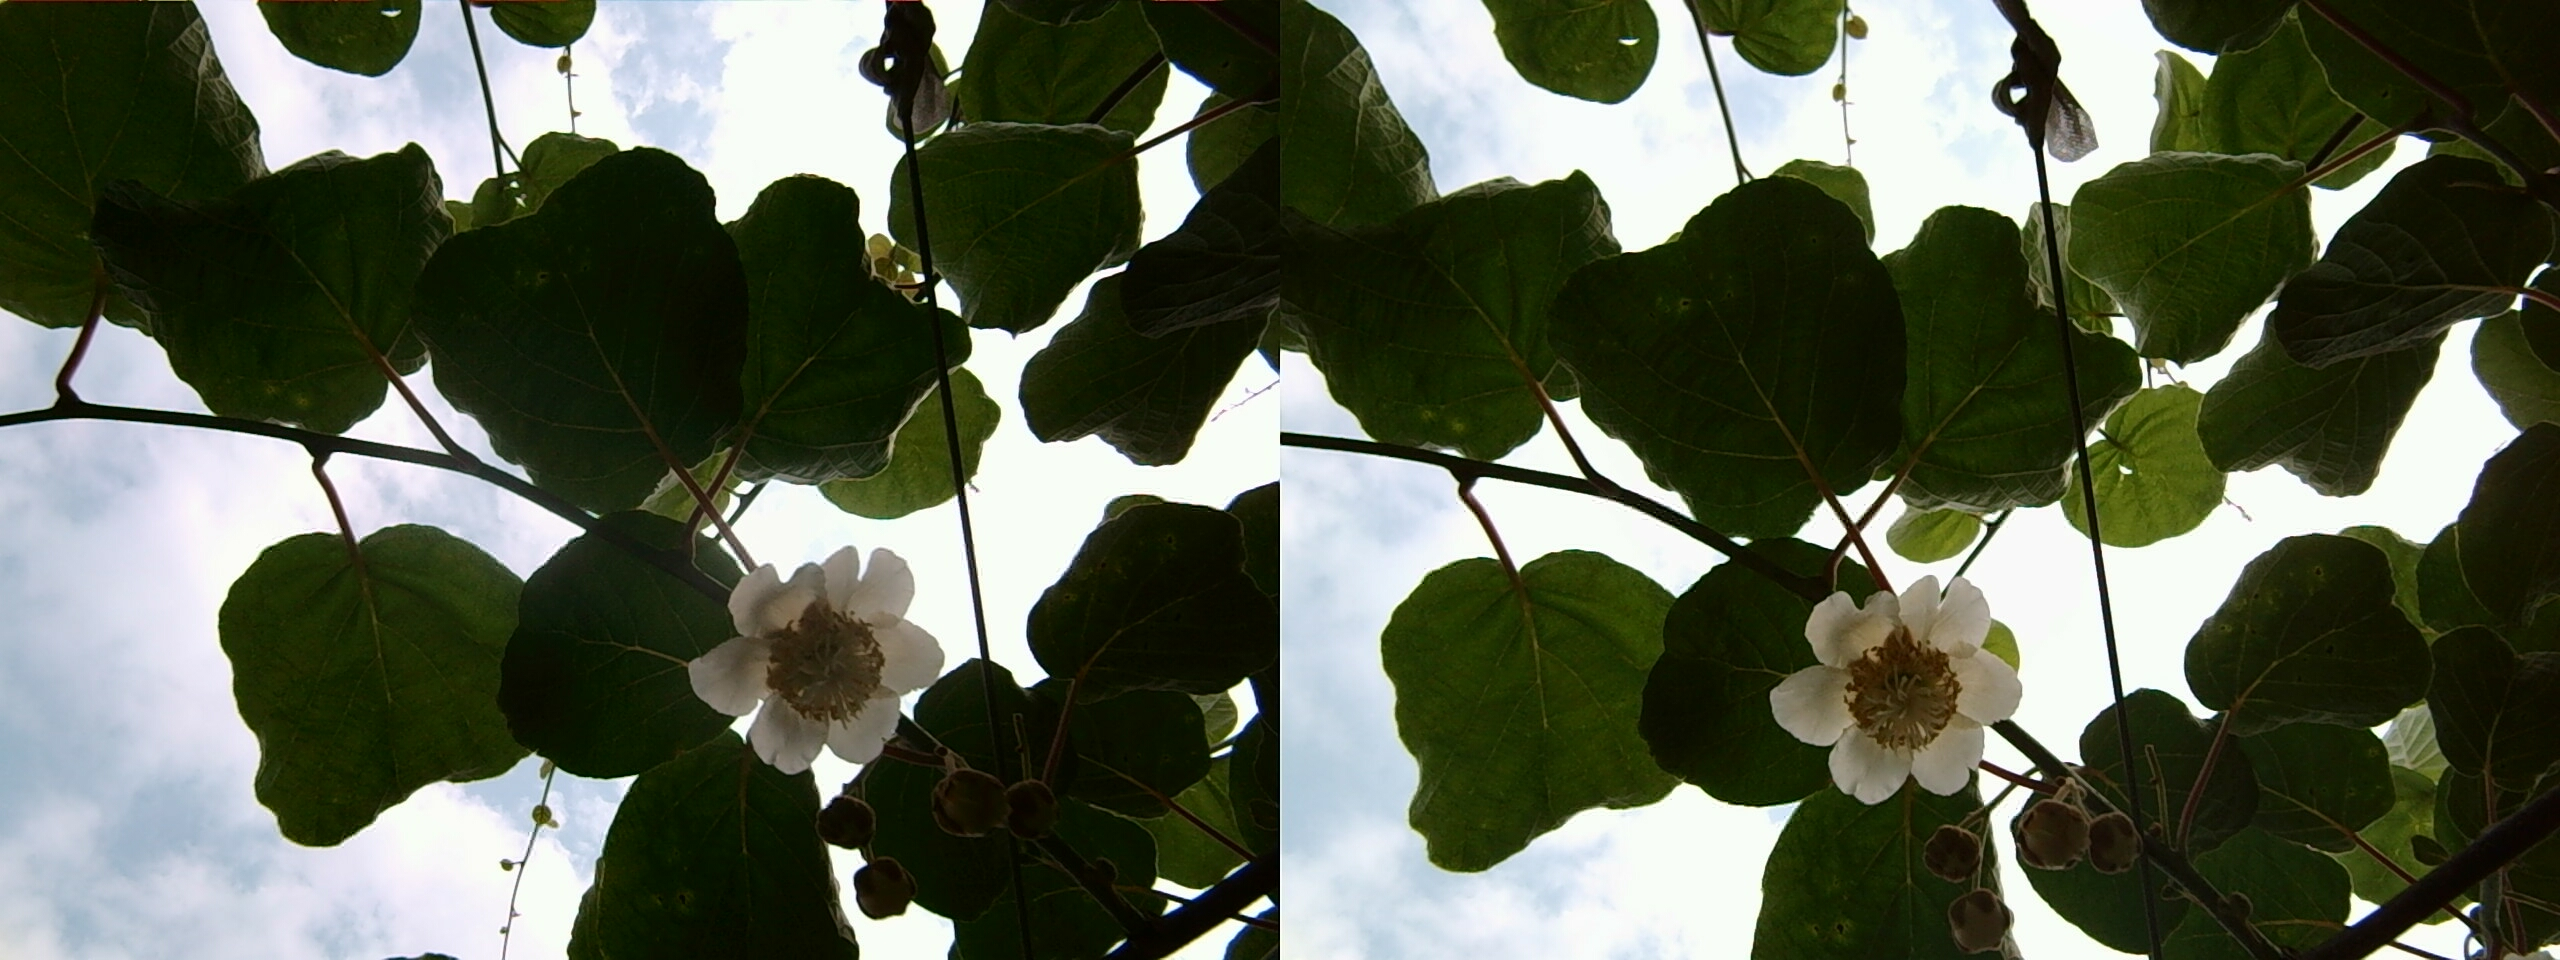flower: (1763, 560, 2021, 800), (691, 539, 939, 774)
